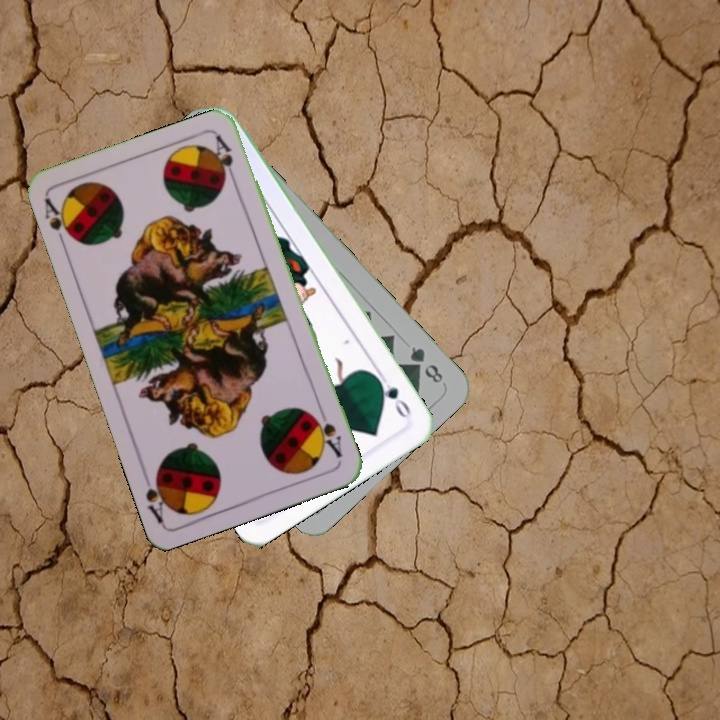G8: (405, 342, 446, 386)
GO: (372, 369, 413, 421)
SA: (40, 194, 80, 251), (308, 405, 344, 461)
